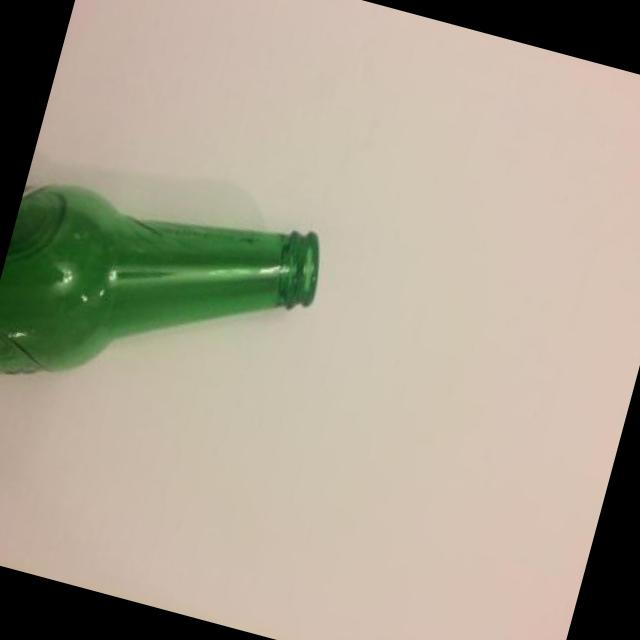BotolKaca: (0, 156, 333, 464)
